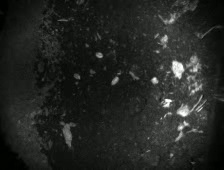corn: (92, 48, 106, 60), (108, 74, 121, 86), (72, 71, 82, 81)
